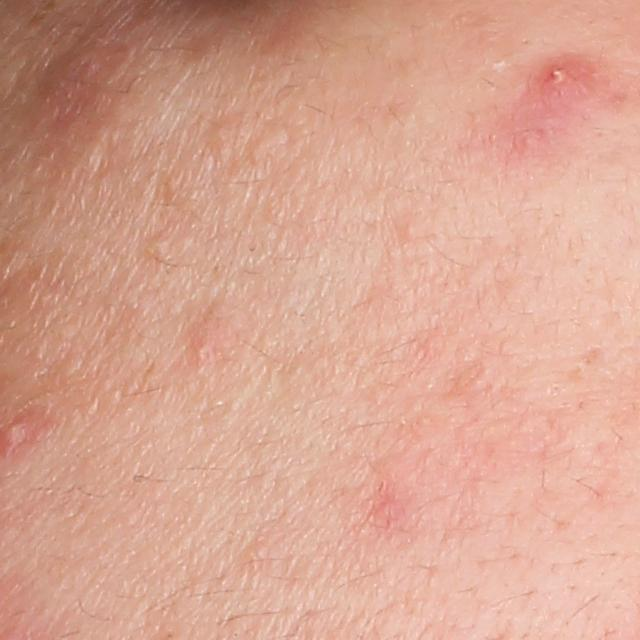comedo: (146, 236, 170, 260), (404, 220, 422, 239)
